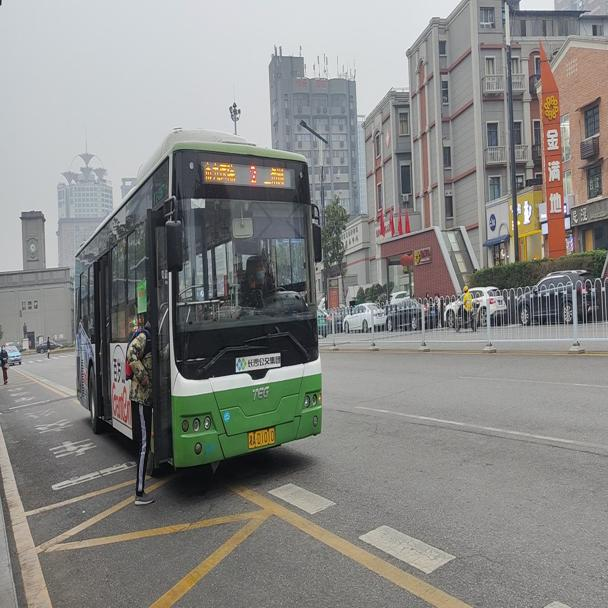bus: (76, 126, 324, 472)
screen: (243, 157, 266, 186)
